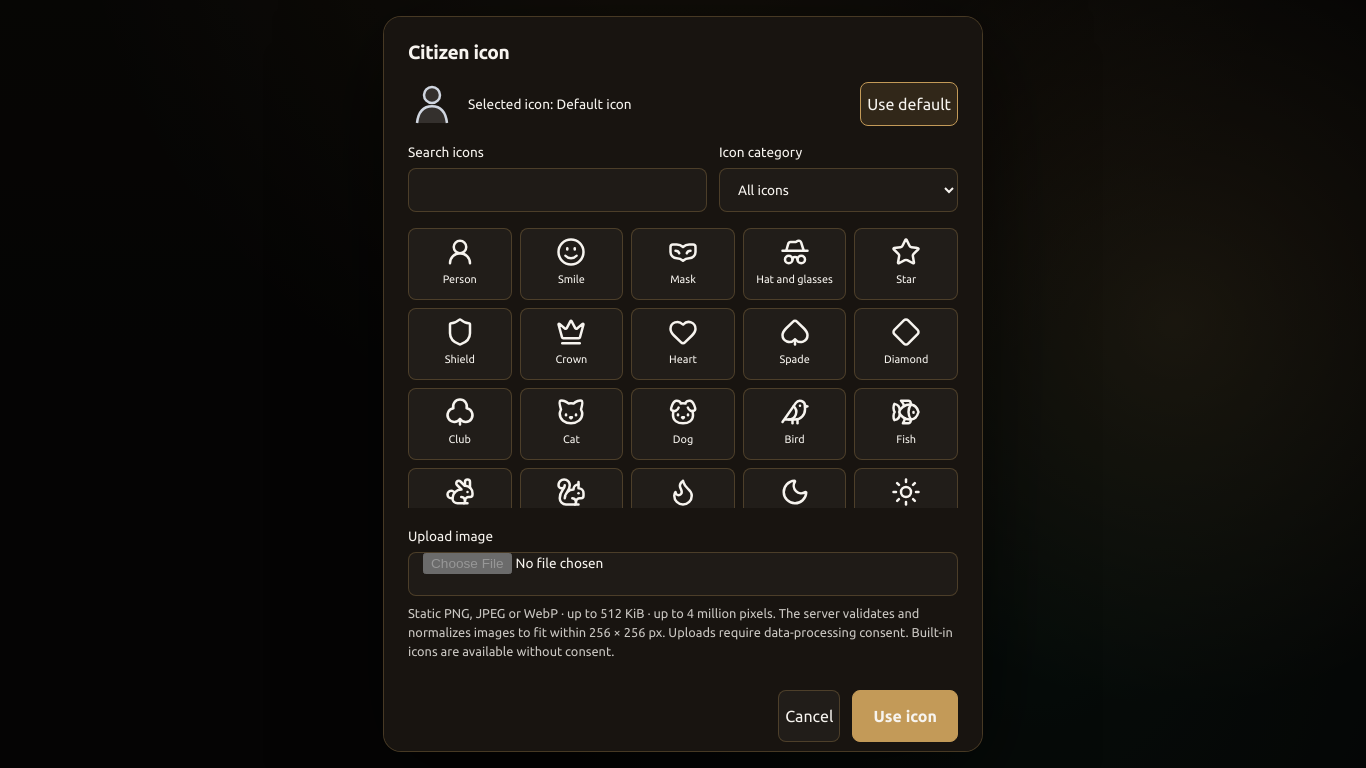
RoleIconPicker › allows built-ins without consent but explains why upload is unavailable
The width and height of the screenshot is (1366, 768).
Check: the file field labelled "Upload image" is disabled, box [408,552,958,596]
Check: the text "Uploads require data-processing consent" is shown, box [408,625,953,658]
Select "Animals" in the dropdown labelled "Icon category" at (838, 190), box [719,168,958,212]
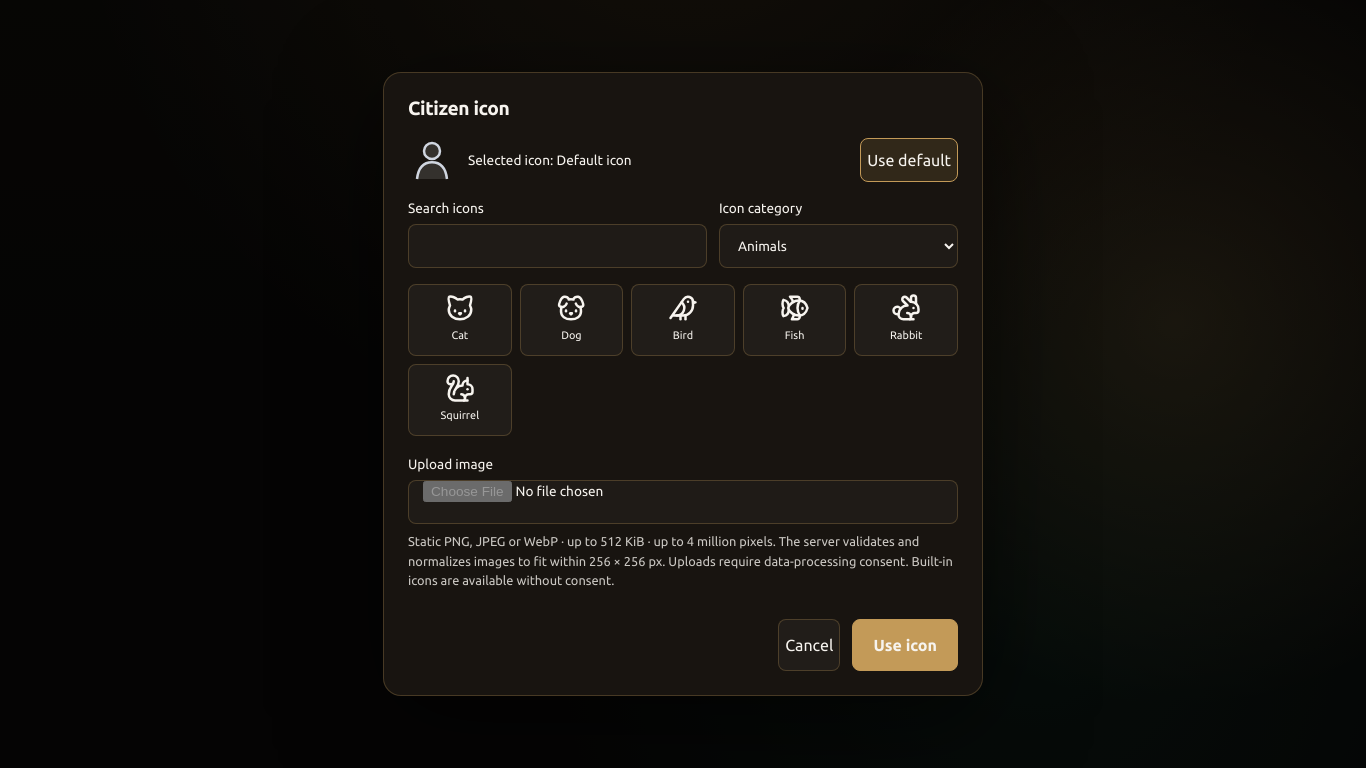
Check: the button "Cat" is enabled, box [408,284,512,356]
Check: the button "Star" is gone
